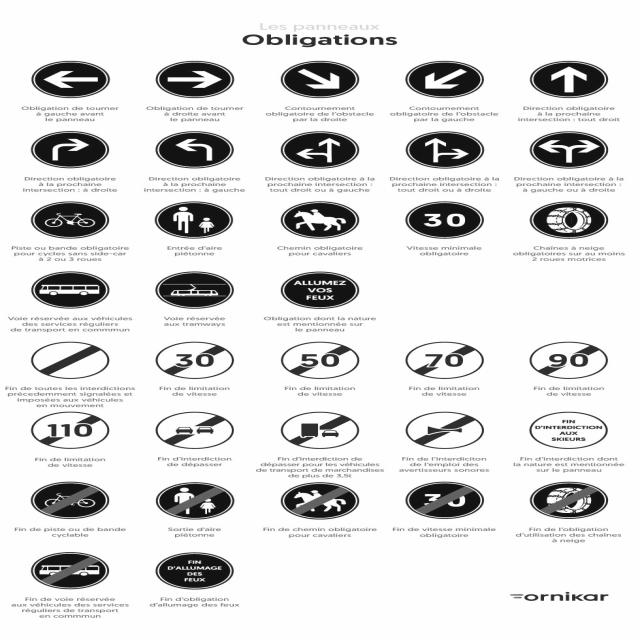direction_obligation: (152, 58, 236, 100), (152, 130, 236, 171), (273, 130, 356, 170), (28, 60, 112, 99), (279, 58, 357, 99), (27, 130, 107, 169), (528, 130, 607, 169), (407, 61, 485, 98), (406, 131, 484, 168), (526, 61, 605, 97)
end_forbidden: (526, 408, 610, 450), (152, 409, 237, 448), (30, 340, 111, 380), (404, 408, 482, 449), (278, 410, 358, 449)
end_speed: (523, 340, 610, 380), (30, 409, 112, 450), (401, 340, 485, 379), (280, 340, 360, 380), (157, 340, 234, 380), (403, 481, 483, 519)
obligation: (277, 200, 361, 240), (151, 200, 233, 240), (27, 270, 109, 309), (528, 200, 606, 240), (152, 271, 234, 309), (32, 199, 109, 239), (280, 271, 360, 309)
speed_30: (402, 199, 484, 238)
